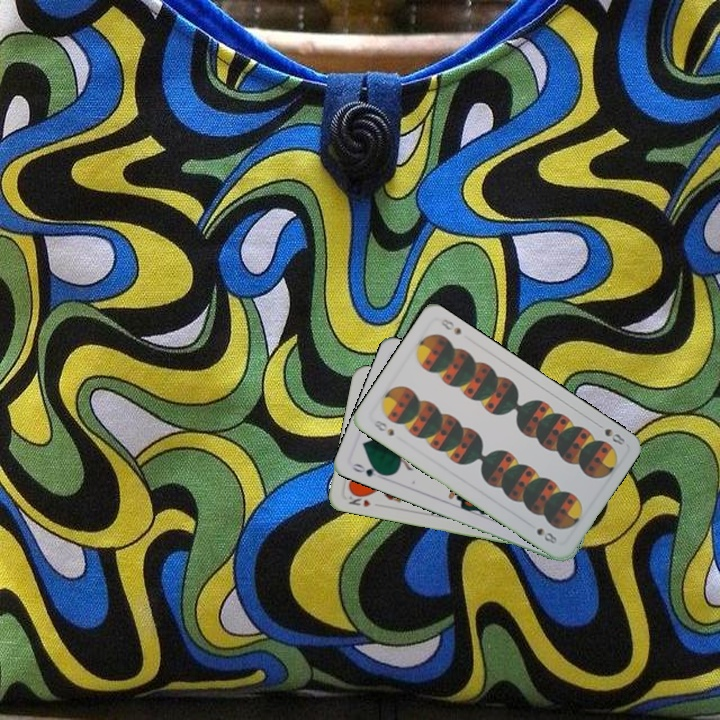GO: (348, 459, 388, 480)
HK: (345, 489, 373, 510)
S8: (592, 419, 628, 448), (369, 416, 397, 439)
